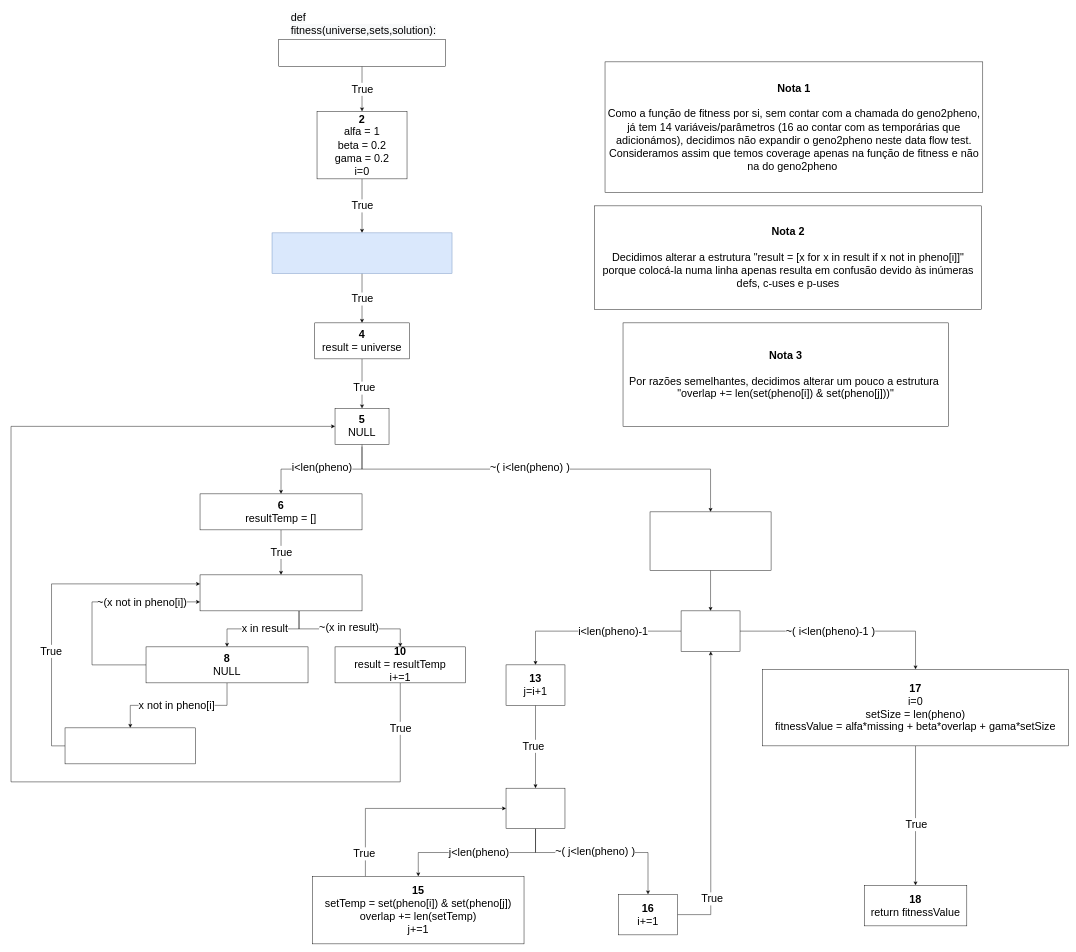
The diagram is 1076 pixels wide and 952 high, and some of its shapes have lost their labels. The shapes that lost their labels are listed below. From the top down, each one's centre as x and y in pixels, then its label:
(x=361, y=52): 1 Initialize: universe, sets, solution
(x=362, y=252): 3 pheno = geno2pheno(solution,sets)
(x=710, y=540): 11 missing = len(result) overlap = 0 i=0
(x=281, y=592): 7 NULL
(x=710, y=630): 12 NULL
(x=130, y=745): 9 resultTemp.append(x)
(x=535, y=808): 14 NULL
